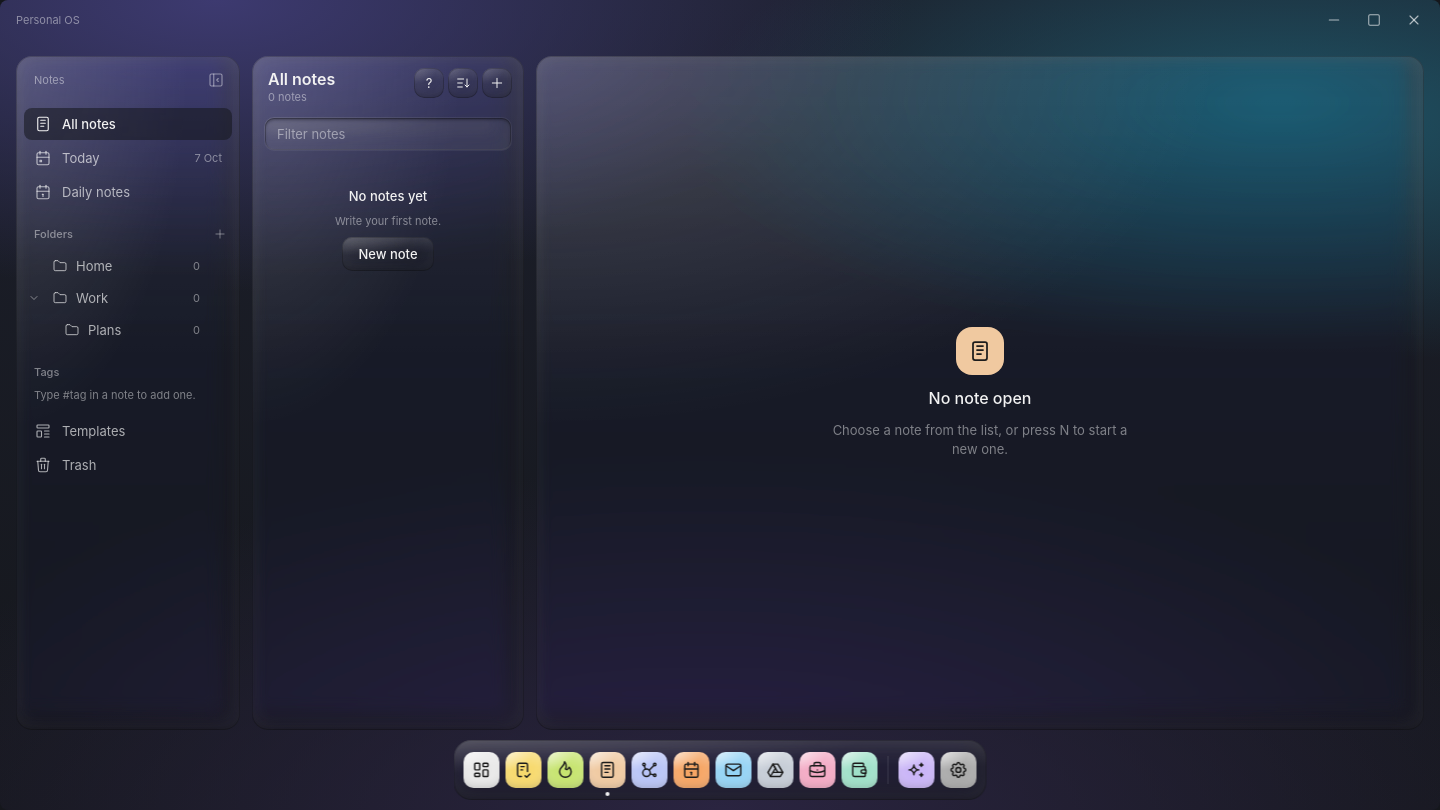
Scenario: the folder tree › folds and unfolds a folder with children and remembers it
Expected: the link "Plans 0" is shown, [64,322,200,338]
Click the button named "Fold Work" at coordinates (34, 298), box [24,288,44,308]
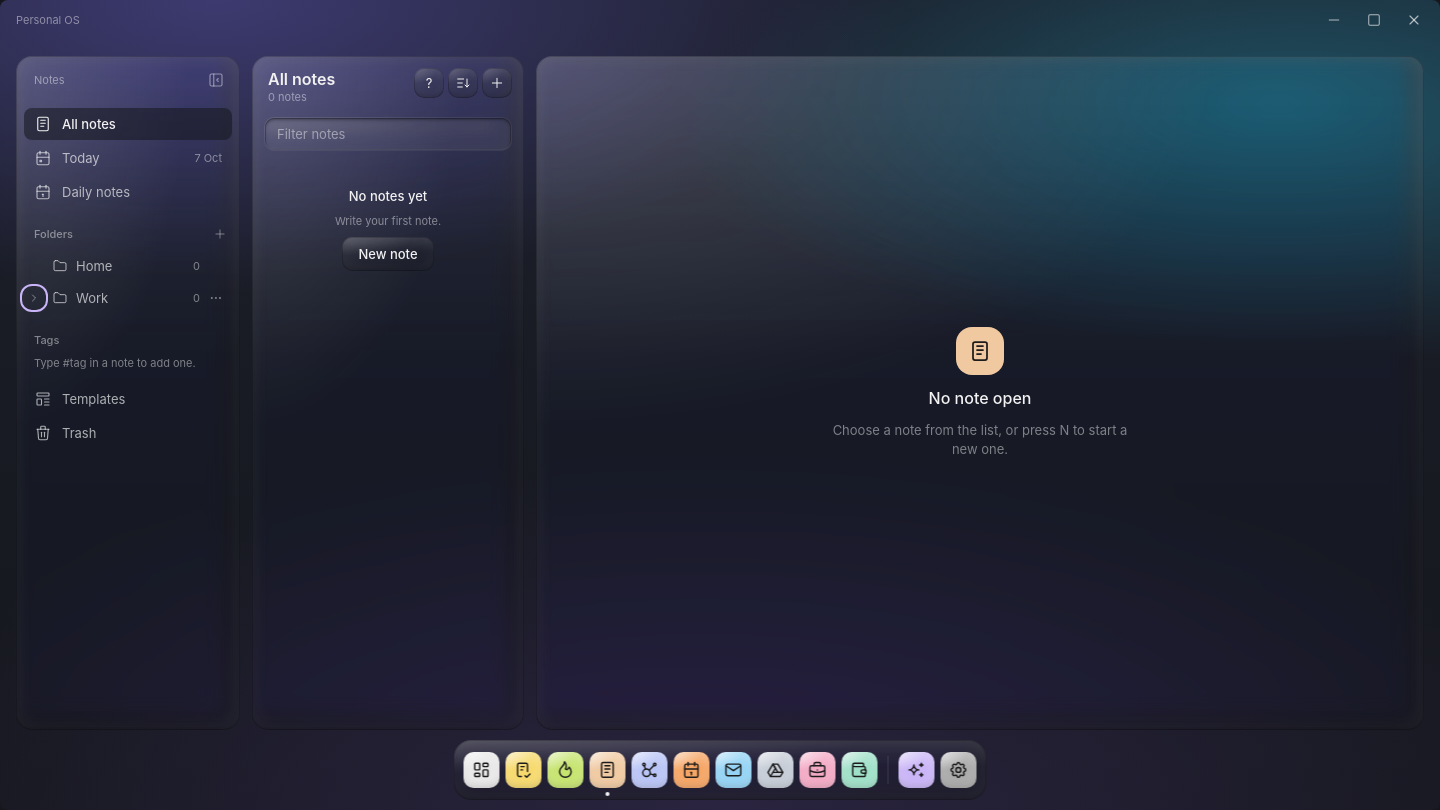
Expected: the link "Plans" is gone
Click the button named "Unfold Work" at coordinates (34, 298), box [24,288,44,308]
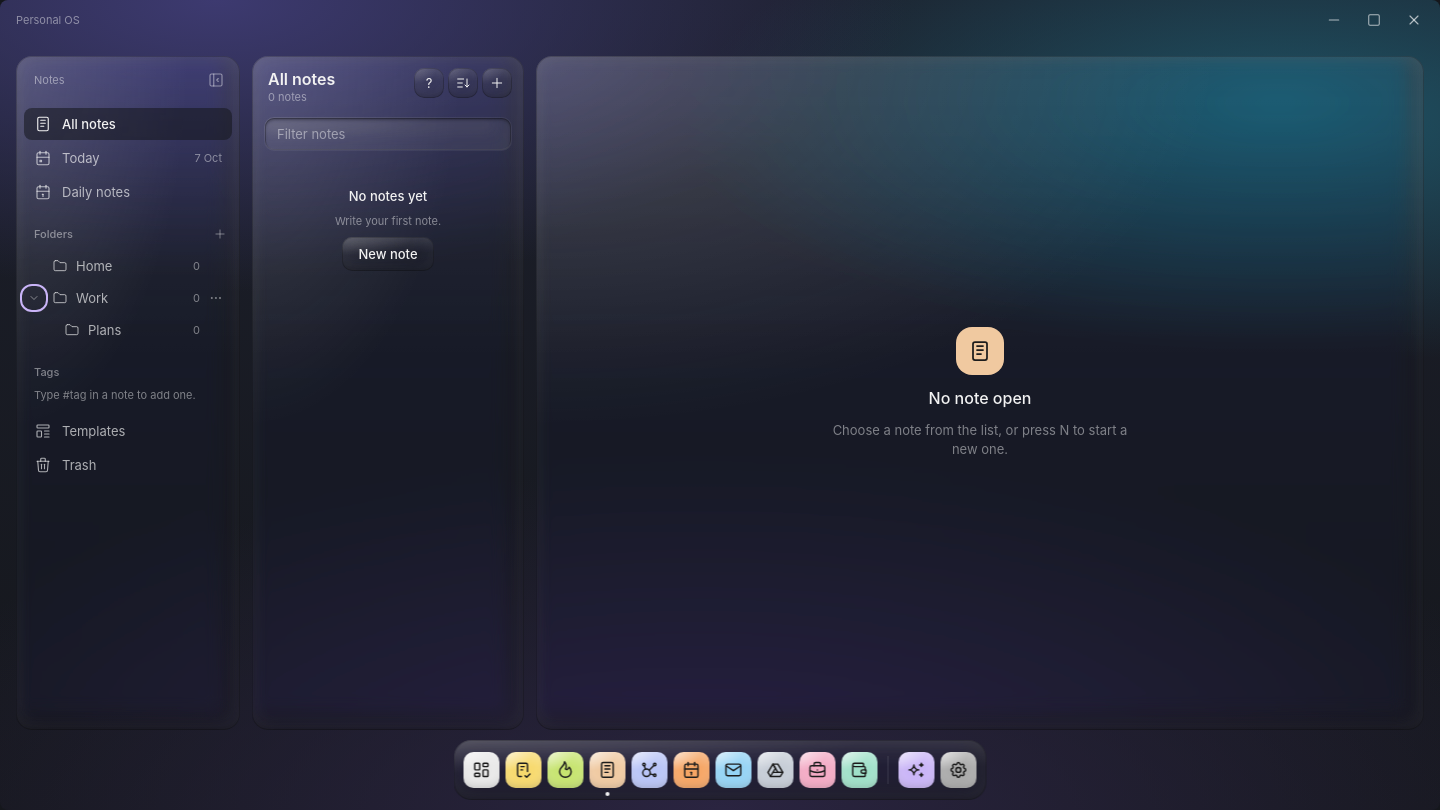
Expected: the link "Plans 0" is shown, [64,322,200,338]
